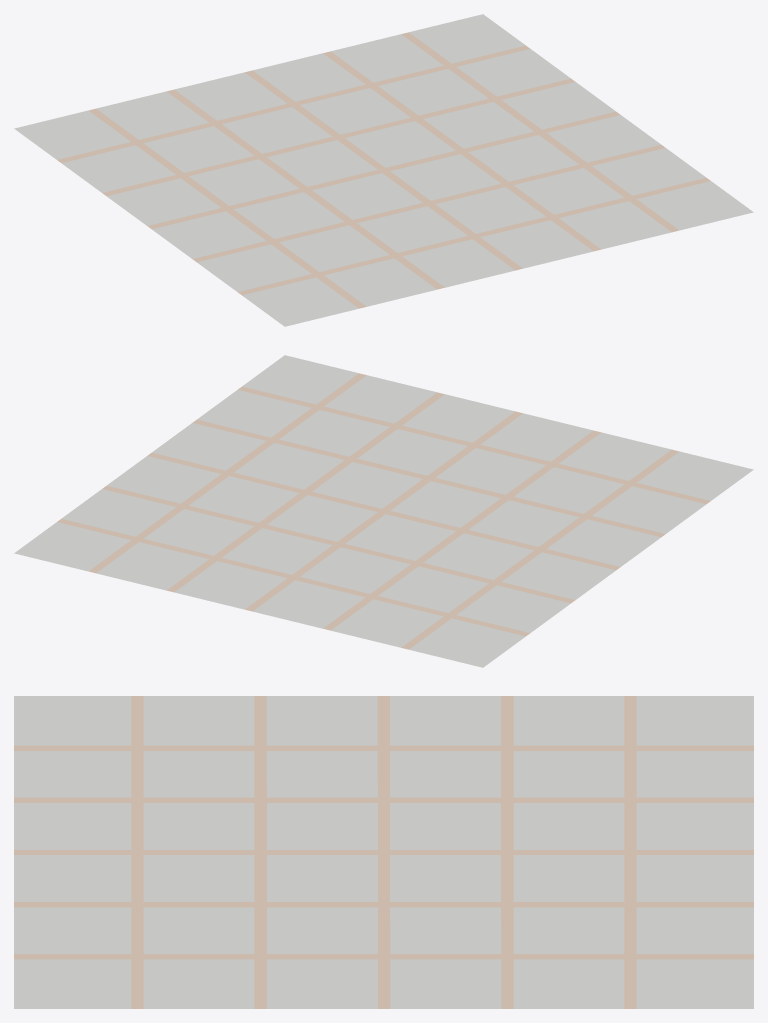
File: arena_battle.gltf
3 views of the same model, one above another, from view 1: azimuth 30°, elevation 25°; view 2: azimuth 150°, elevation 25°; view 3: azimuth 270°, elevation 25° (orthographic). The views are drawn at different scales.
Parts seen in each view (by area): view 1: Plane.055; view 2: Plane.055; view 3: Plane.055.
Boxes of the visible parts, x1=… form: Plane.055: x1=14, y1=14, x2=753, y2=326; Plane.055: x1=14, y1=355, x2=753, y2=667; Plane.055: x1=14, y1=696, x2=753, y2=1008.
Size of what is drawn, in the model's own units: 24 by 0 by 24.
